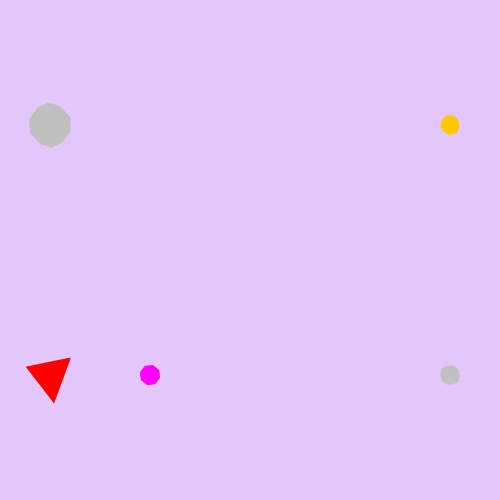decagon: (24, 101, 77, 149), (435, 361, 465, 389)
nonagon: (436, 111, 465, 139)
octagon: (135, 360, 165, 390)
triangle: (26, 350, 75, 401)
